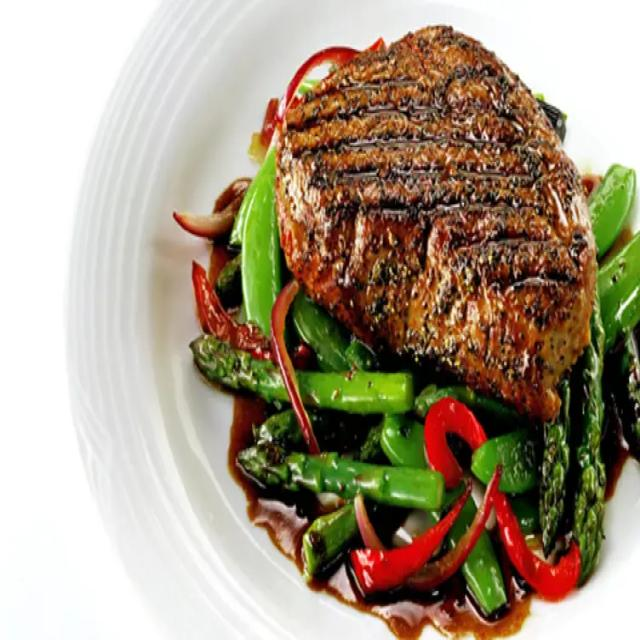Carne: (173, 22, 637, 633), (272, 22, 599, 421)
